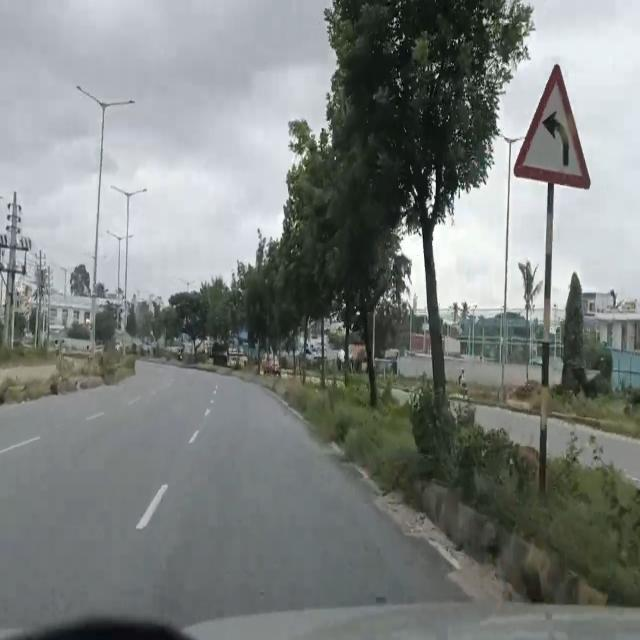bien_cam: (512, 59, 593, 192)
